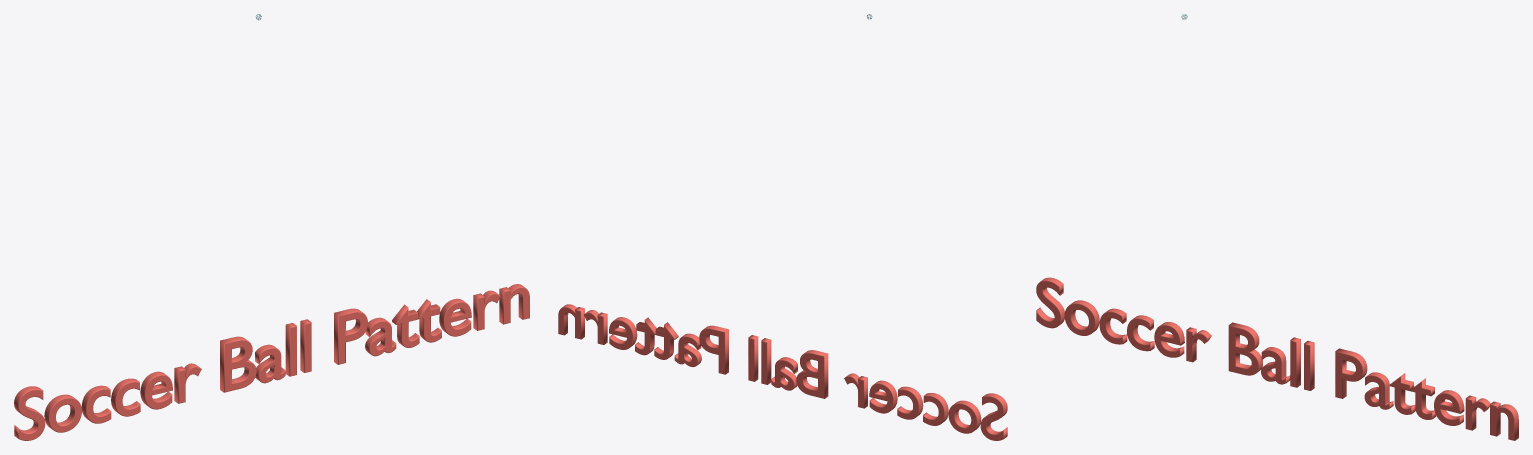
The picture shows the model from 3 angles, left to right: view 1: azimuth 30°, elevation 25°; view 2: azimuth 150°, elevation 25°; view 3: azimuth 330°, elevation 25°; orthographic projection. The views are drawn at different scales.
Visible parts, largest first — view 1: Text; view 2: Text; view 3: Text.
Boxes of the visible parts, x1,y1,x2,y2 form: Text: (14,284,529,440); Text: (558,304,1007,440); Text: (1036,277,1518,440).
Bounding box in the file's own units: 6.86 × 5.26 × 1.09.
